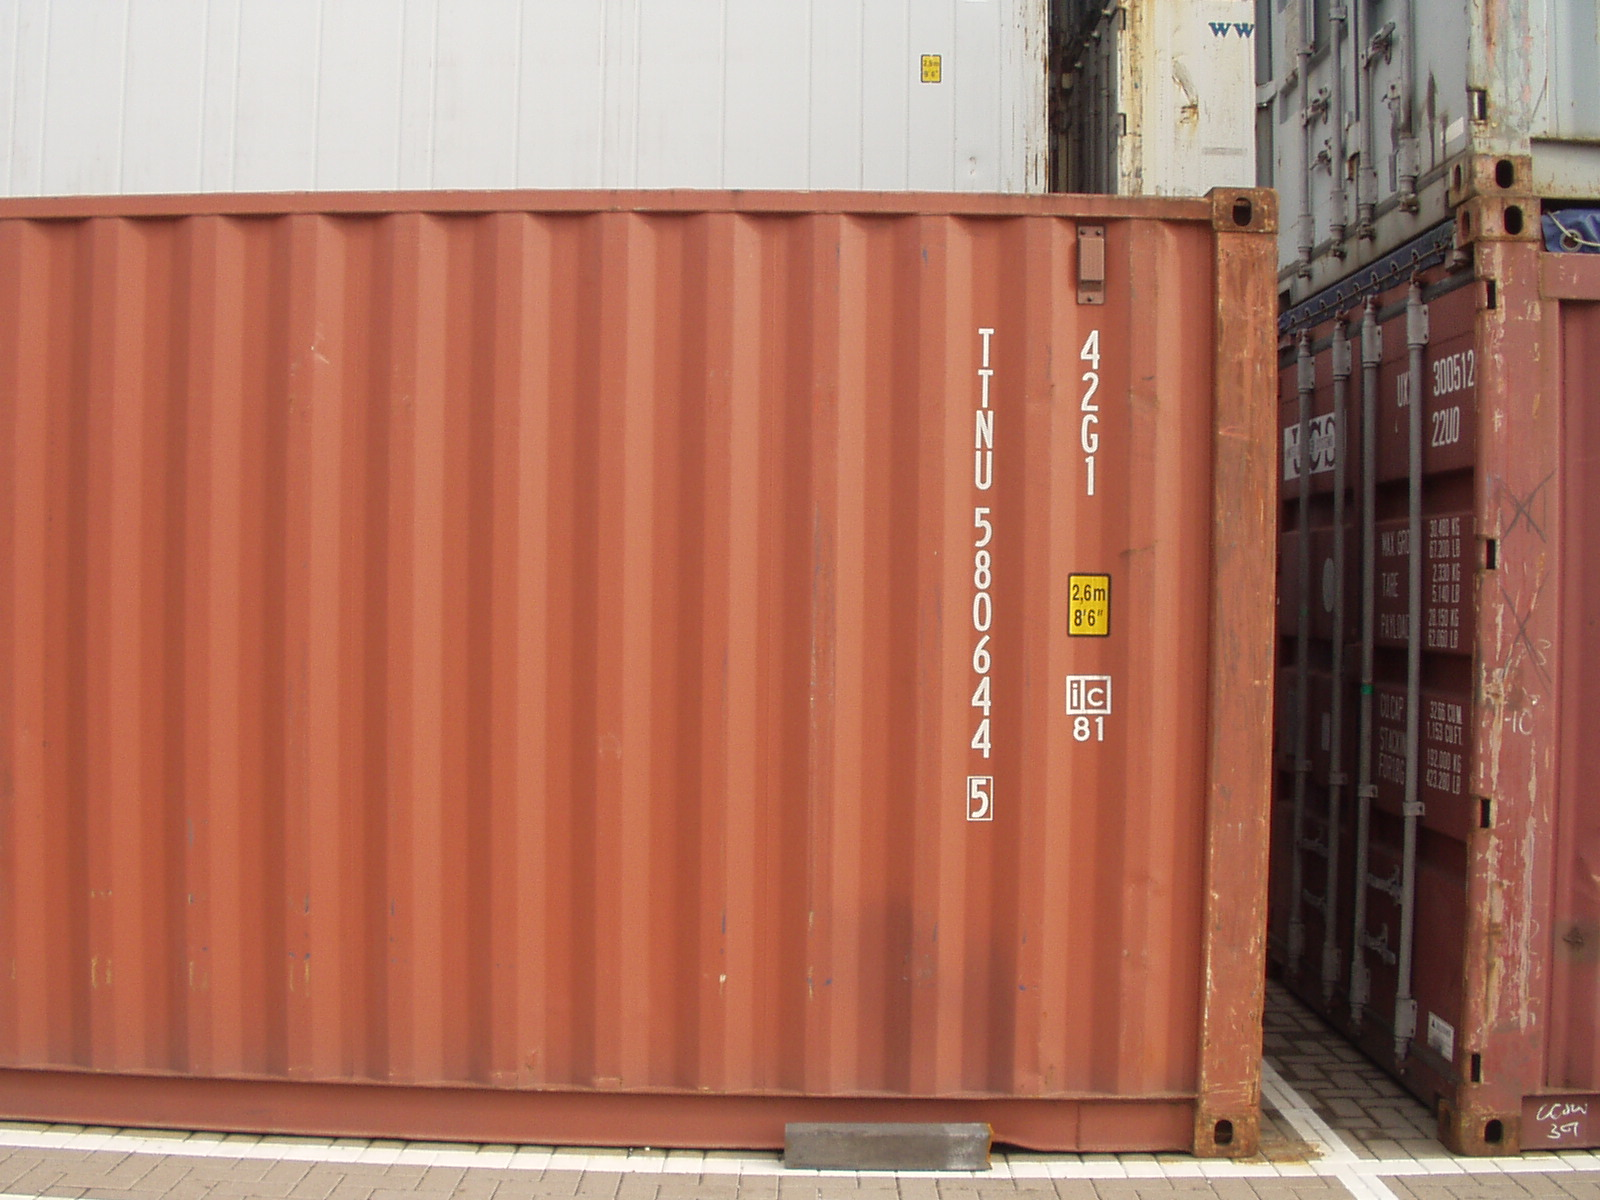container_no_door: (163, 171, 1319, 1174)
